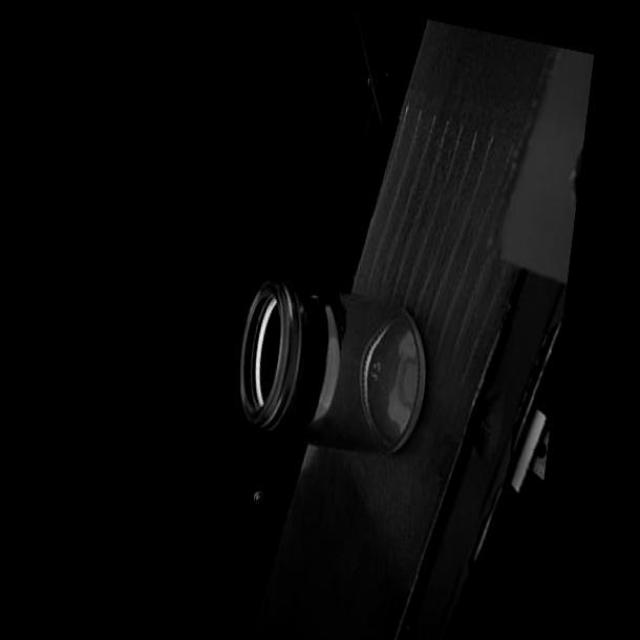defect: (310, 291, 321, 298)
glass: (229, 267, 437, 461)
